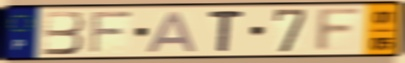7: (271, 8, 307, 54)
A: (144, 10, 200, 54)
B: (41, 10, 86, 57)
F: (312, 6, 367, 54), (88, 10, 135, 55)
T: (207, 9, 246, 53)
